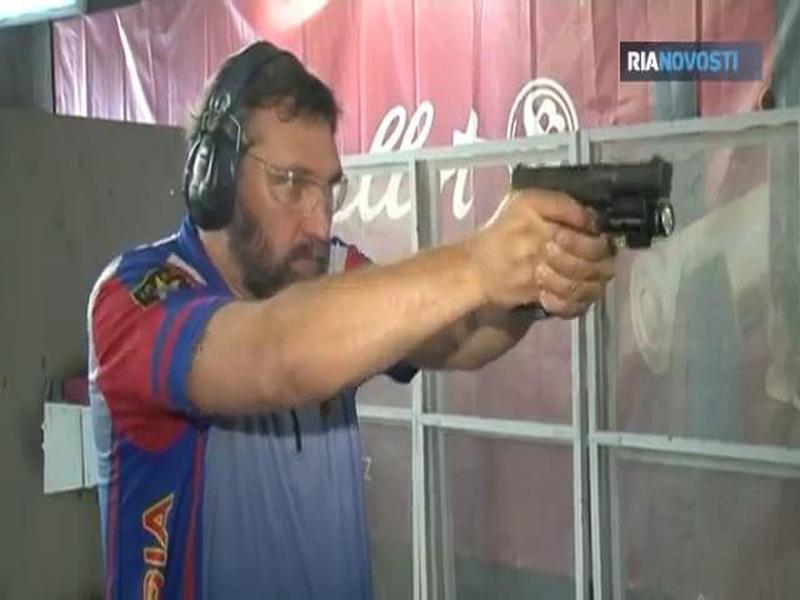Pistola: (480, 151, 687, 334)
